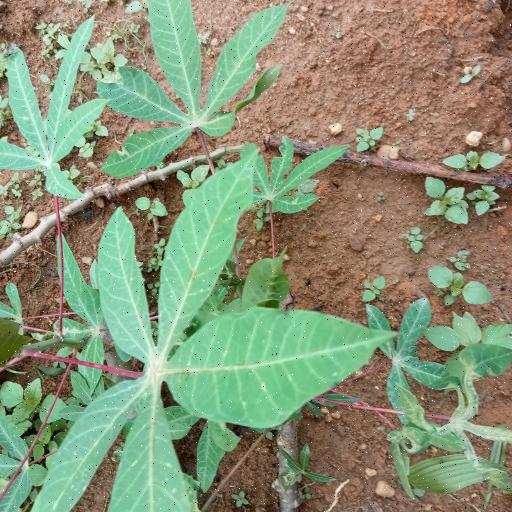Cassava_Mosaic: (47, 140, 378, 512), (99, 0, 274, 170)
